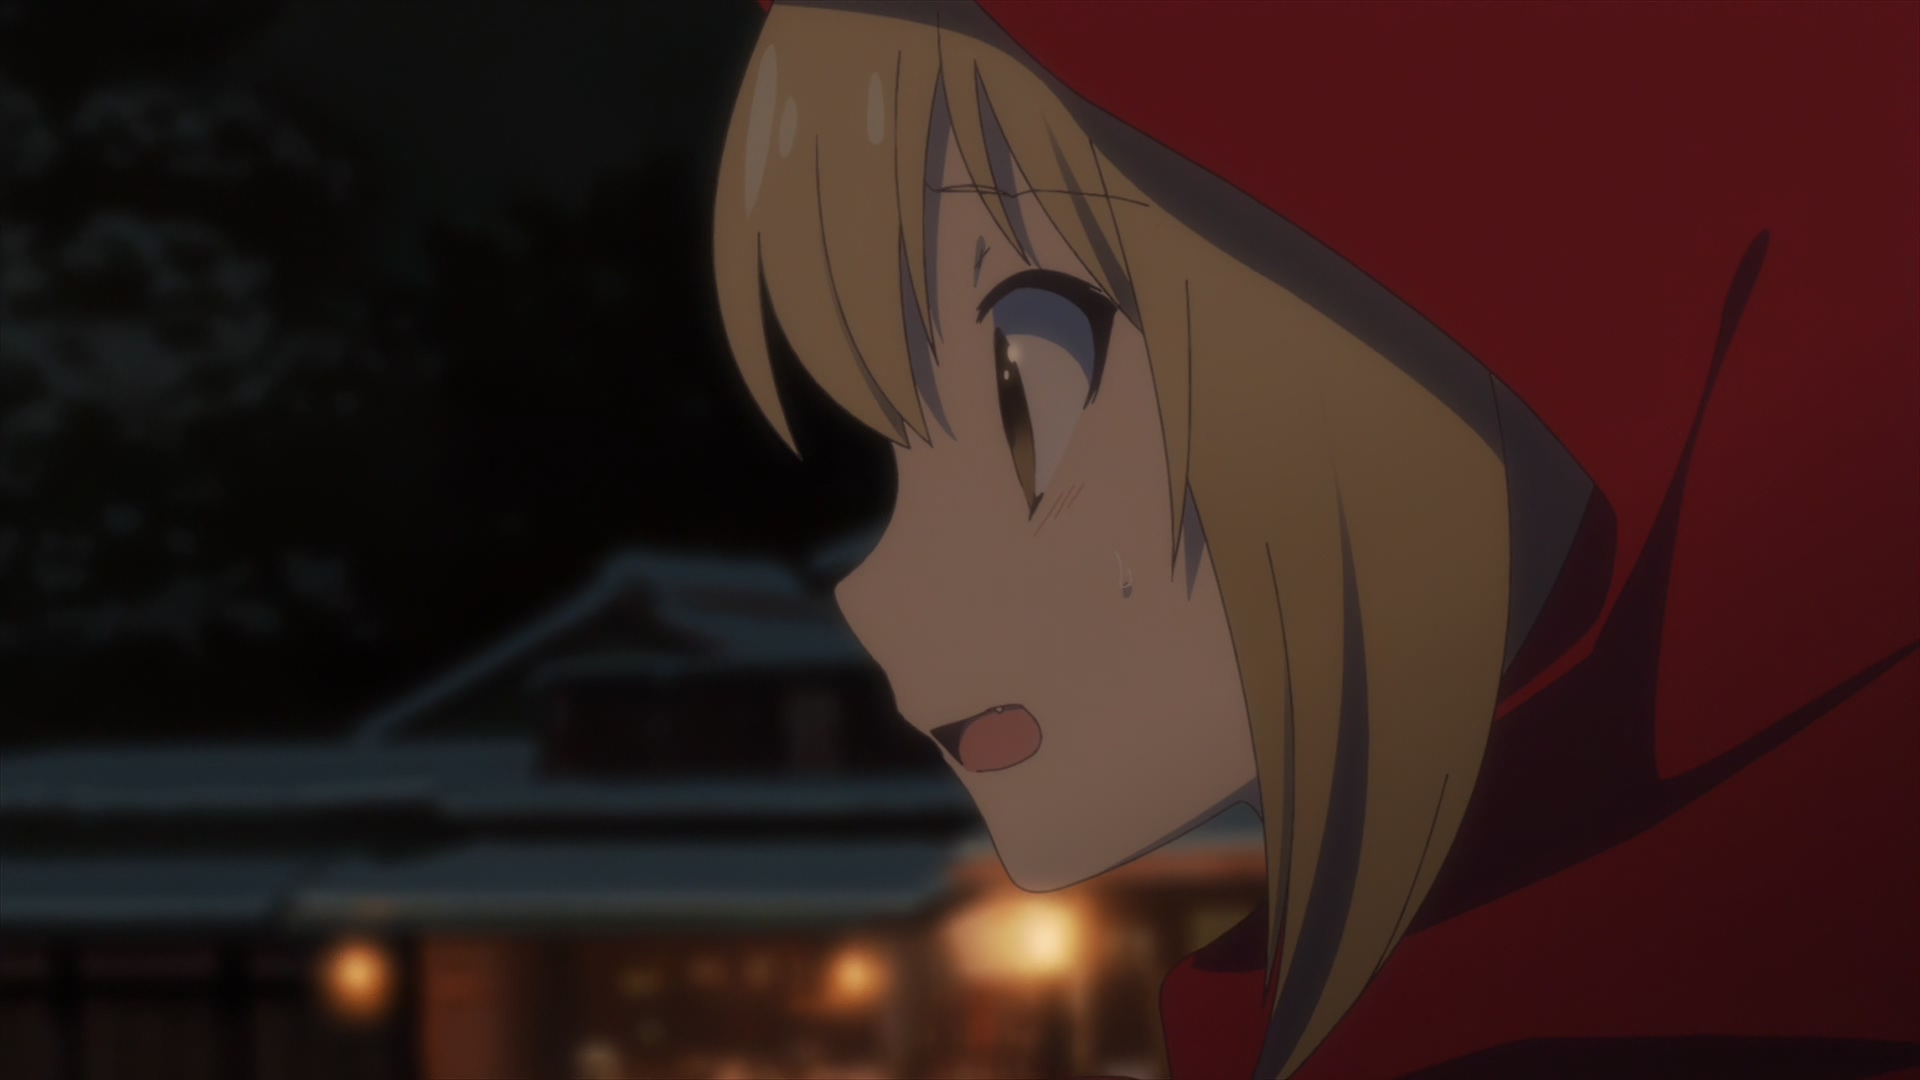柚: (713, 1, 1920, 1080)
